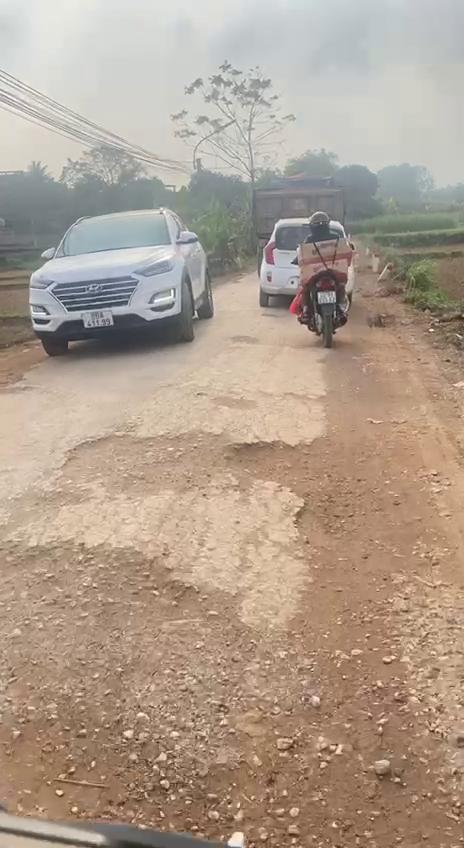pothole: (0, 538, 464, 848), (18, 423, 356, 547)
